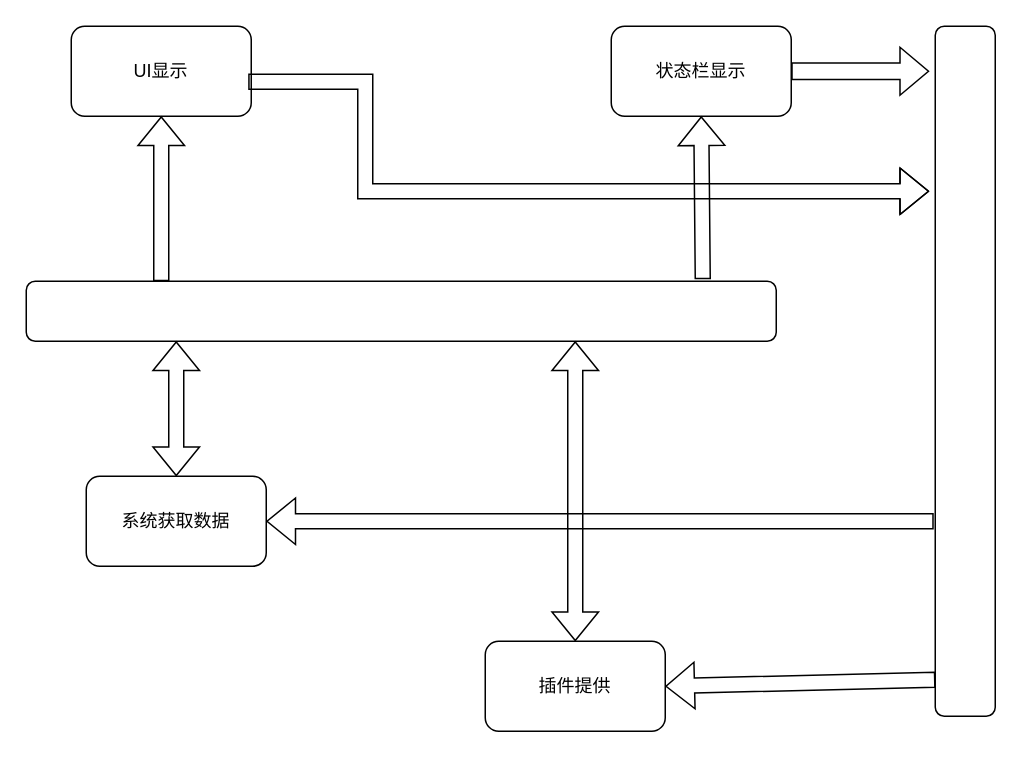
The diagram is 1022 pixels wide and 758 high, and some of its shapes have lost their labels. Each missing label, with the box of its shape:
显示：CPU，网络，内存的占用率，频率，显示插件信息: (25, 280, 776, 341)
设置页面: (934, 25, 995, 716)
